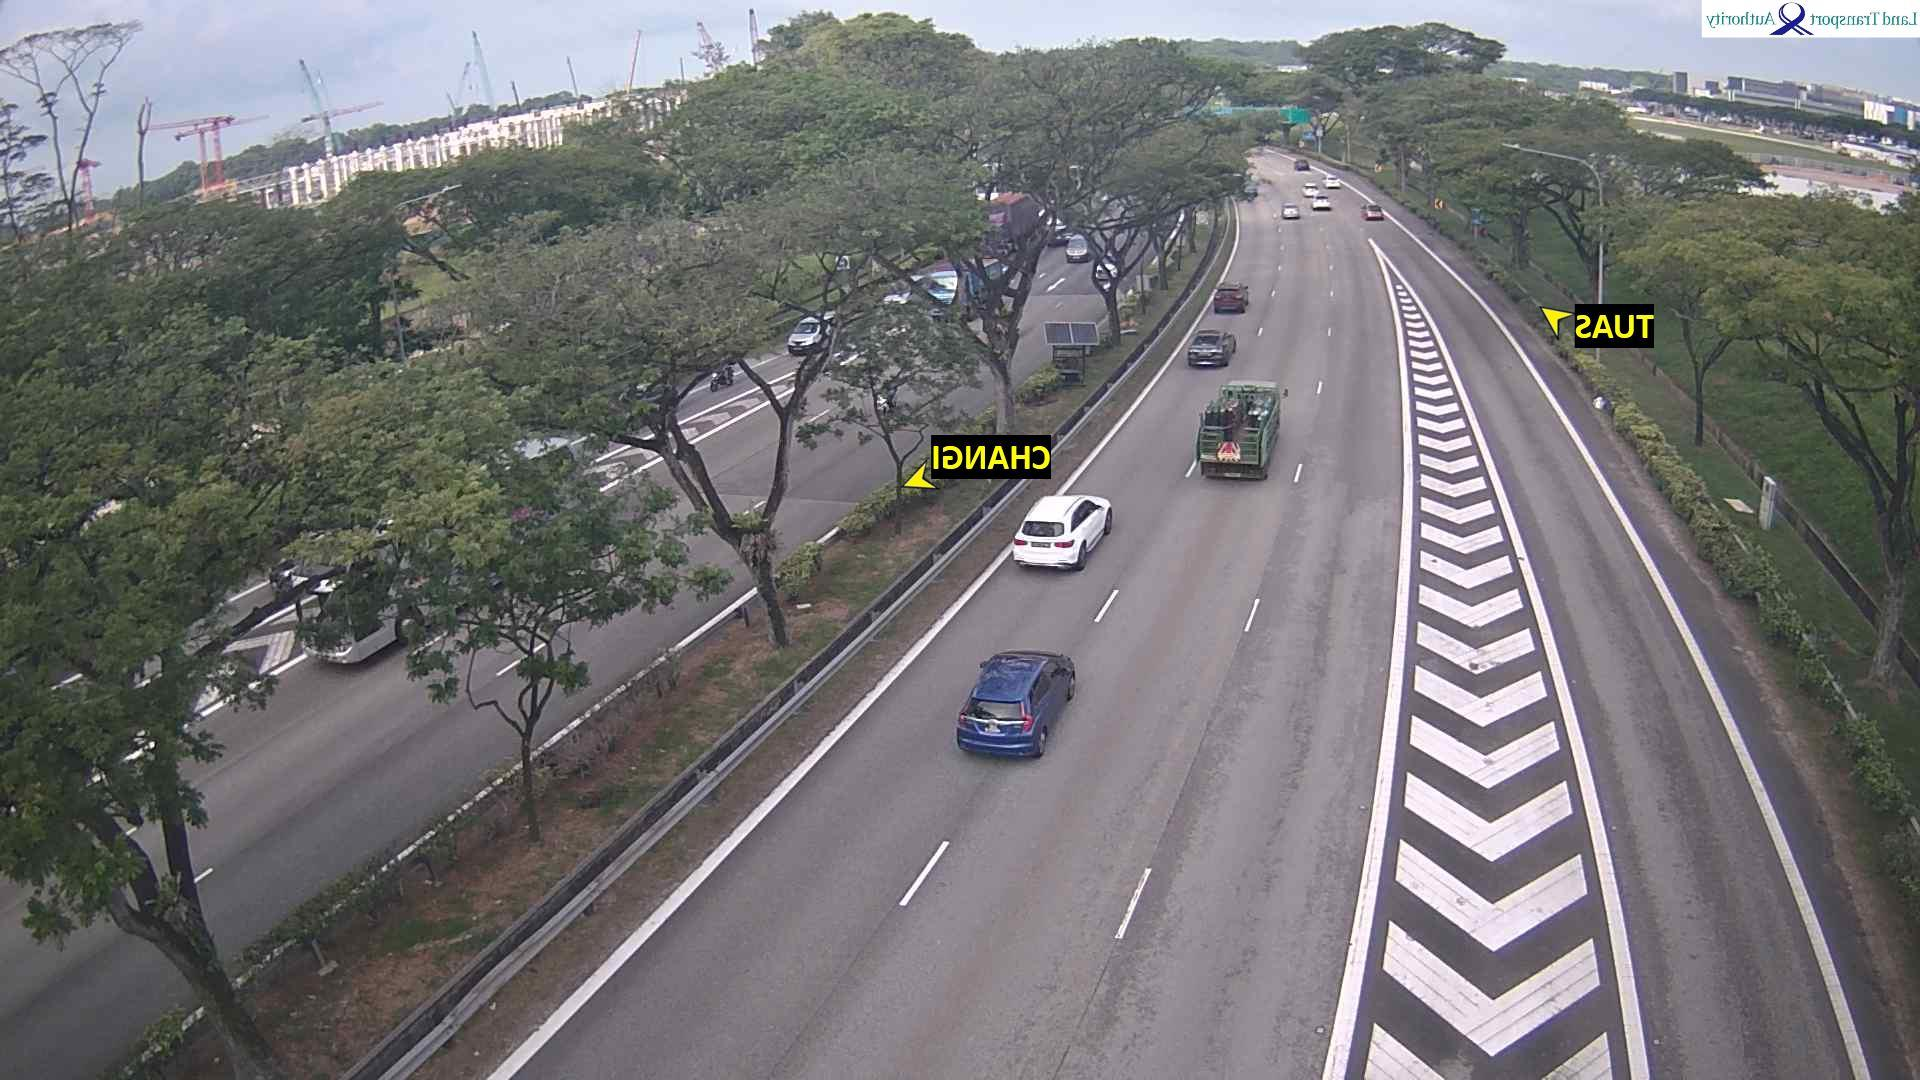incoming: (786, 318, 824, 357), (1063, 235, 1092, 264)
